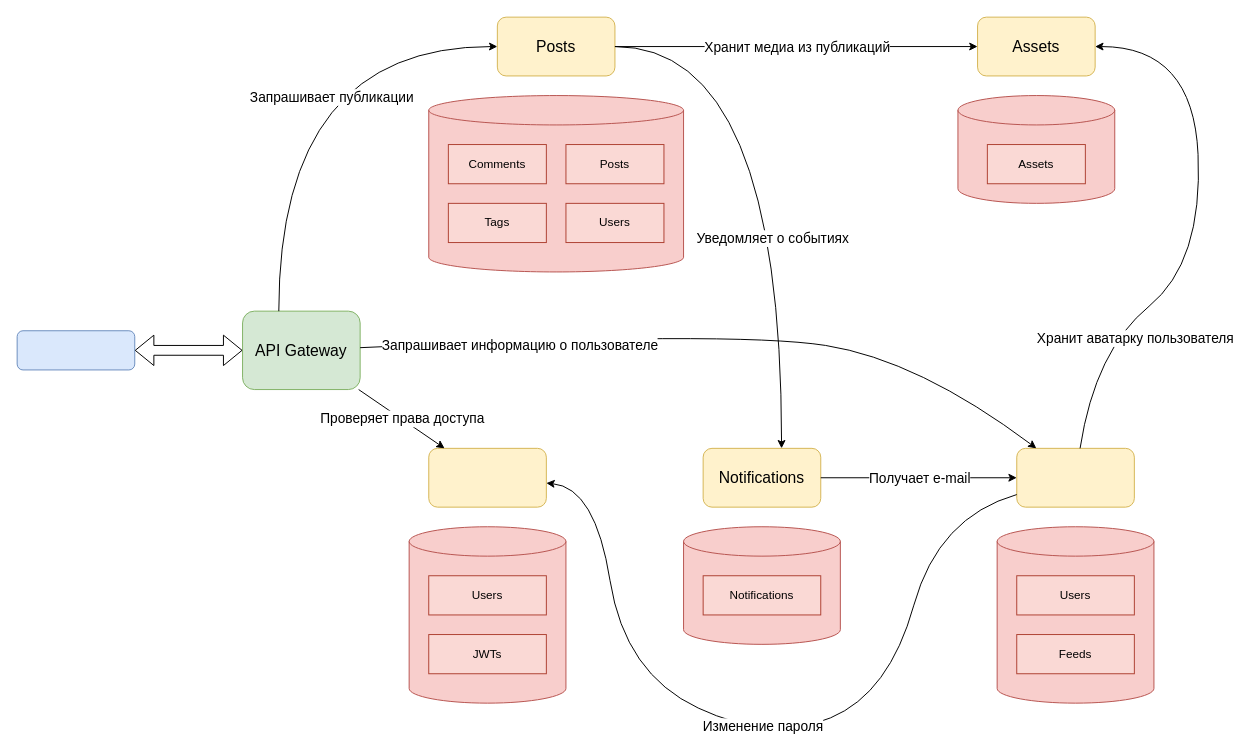
Some shapes in this 1250 by 752 pixel diagram are drawn without their labels. The shapes that lost their labels are listed below. From the top down, each one's centre as x and y in pixels, then its label:
point 75,350: Client
point 487,477: Authoriz ation
point 1075,477: User
